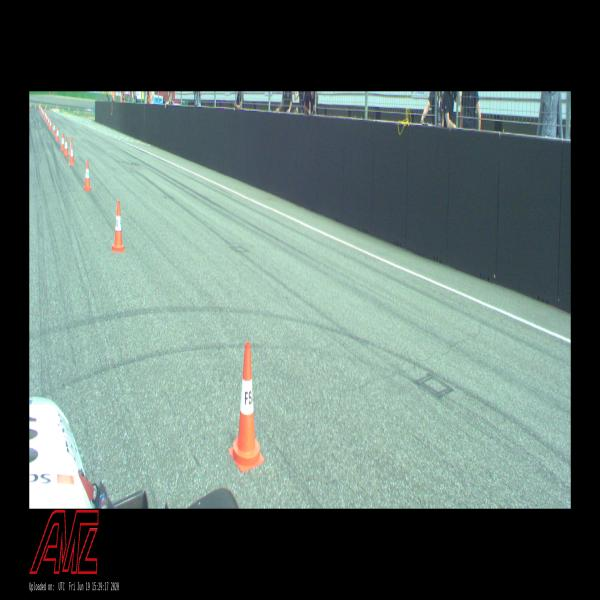orange_cone: (228, 342, 264, 473), (111, 201, 125, 252), (84, 160, 91, 190), (68, 138, 74, 165), (69, 138, 74, 157), (64, 137, 68, 156), (56, 126, 60, 142), (61, 133, 64, 151), (52, 122, 56, 134), (49, 118, 52, 130), (48, 116, 49, 126)
